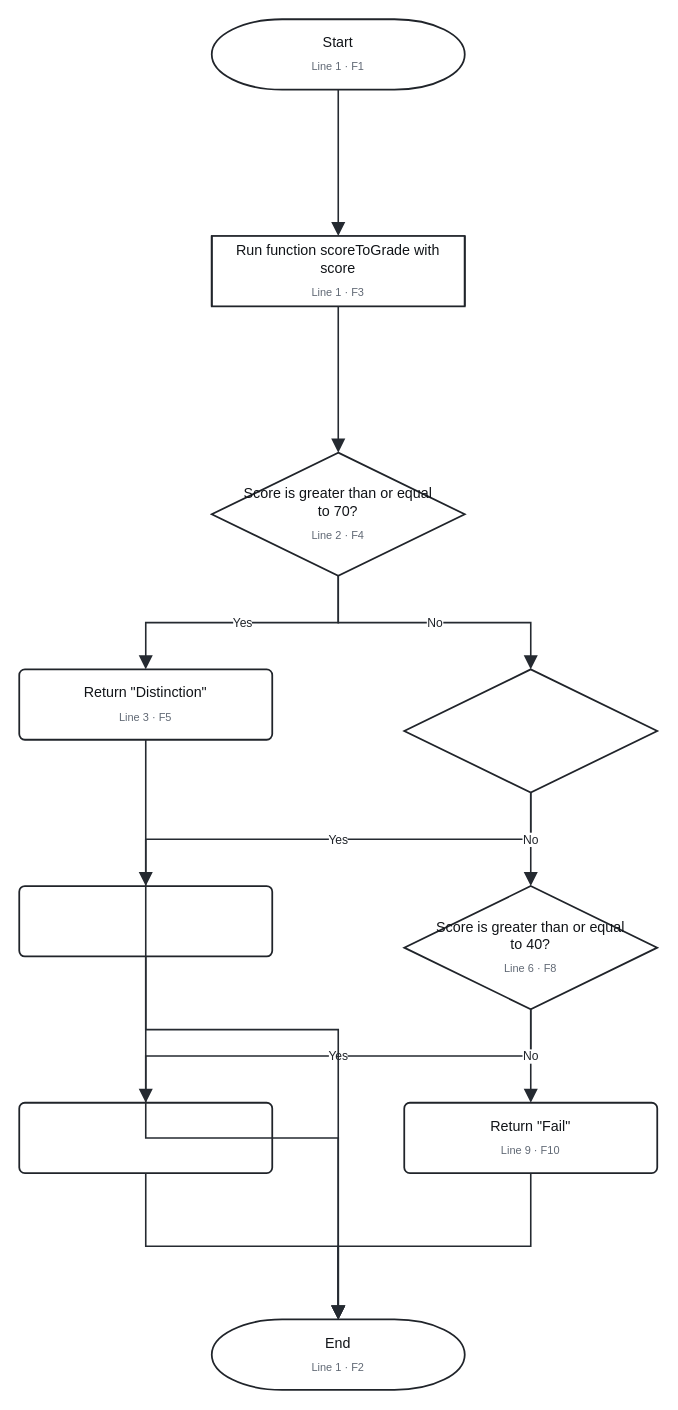
Some shapes in this 678 by 1410 pixel diagram are drawn without their labels. The box of each missing label's shape, as (x1, y1, x2, y2) in pixels:
Return "Merit" Line 5 · F7: (18, 885, 273, 957)
Return "Pass" Line 7 · F9: (18, 1101, 273, 1173)
Score is greater than or equal to 55? Line 4 · F6: (403, 668, 658, 793)
